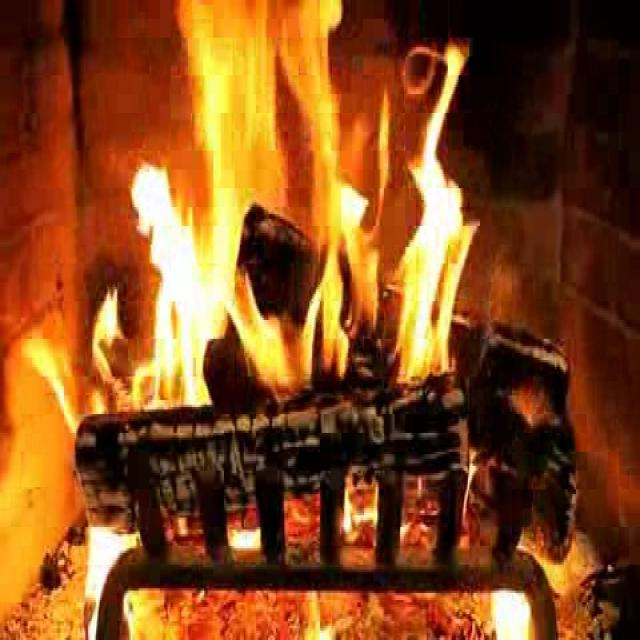fire: (126, 8, 461, 403)
